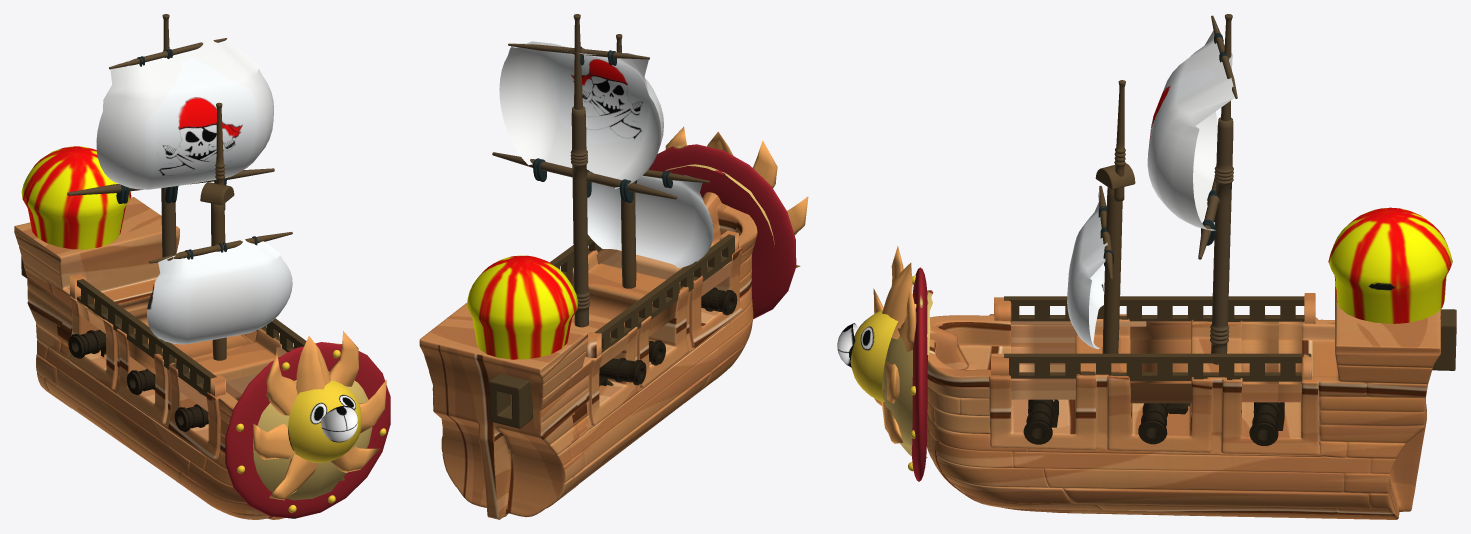
Rendered from barco de textura.fbx.
3 views of the same model, side by side, from view 1: azimuth 30°, elevation 25°; view 2: azimuth 150°, elevation 25°; view 3: azimuth 270°, elevation 25° (orthographic). The views are drawn at different scales.
Visible parts, largest first — view 1: polySurface183, polySurface204, polySurface239, pasted__polySurface239, CABINA, polySurface164, polySurface163, polySurface166, polySurface151, polySurface190, polySurface188, polySurface168 (+5 smaller); view 2: polySurface183, polySurface239, polySurface204, CABINA, pasted__polySurface239, polySurface164, polySurface166, polySurface186, polySurface163, polySurface188, polySurface151, polySurface149 (+3 smaller); view 3: polySurface183, CABINA, polySurface204, polySurface239, polySurface168, polySurface164, polySurface166, pasted__polySurface239, polySurface163, polySurface169, polySurface227, polySurface157 (+2 smaller).
Boxes of the visible parts, x1,y1,x2,y2 form: polySurface183: (14, 197, 293, 519); polySurface204: (225, 331, 390, 518); polySurface239: (96, 39, 273, 189); pasted__polySurface239: (147, 239, 292, 344); CABINA: (21, 146, 131, 249); polySurface164: (77, 279, 216, 396); polySurface163: (211, 203, 226, 360); polySurface166: (161, 187, 176, 257); polySurface151: (68, 330, 106, 358); polySurface190: (149, 232, 292, 263); polySurface188: (67, 168, 274, 195); polySurface168: (178, 251, 306, 352); polySurface183: (419, 192, 757, 519); polySurface239: (499, 41, 663, 188); polySurface204: (648, 126, 808, 319); CABINA: (466, 255, 578, 359); pasted__polySurface239: (587, 175, 713, 267); polySurface164: (594, 234, 734, 352); polySurface166: (570, 106, 589, 327); polySurface186: (489, 373, 532, 428); polySurface163: (620, 181, 636, 288); polySurface188: (492, 152, 677, 199); polySurface151: (599, 358, 646, 385); polySurface149: (508, 43, 649, 59); polySurface183: (927, 285, 1440, 519); CABINA: (1328, 207, 1452, 323); polySurface204: (837, 246, 933, 481); polySurface239: (1147, 24, 1234, 230); polySurface168: (1004, 353, 1310, 381); polySurface164: (1004, 296, 1304, 321); polySurface166: (1210, 117, 1233, 364); pasted__polySurface239: (1067, 192, 1107, 348); polySurface163: (1102, 187, 1122, 353); polySurface169: (1023, 399, 1053, 444); polySurface227: (1249, 402, 1279, 446); polySurface157: (1138, 403, 1168, 444).
Size of the model in its own units: 3.66 by 7.89 by 8.99.
8 materials, 5 textured.
